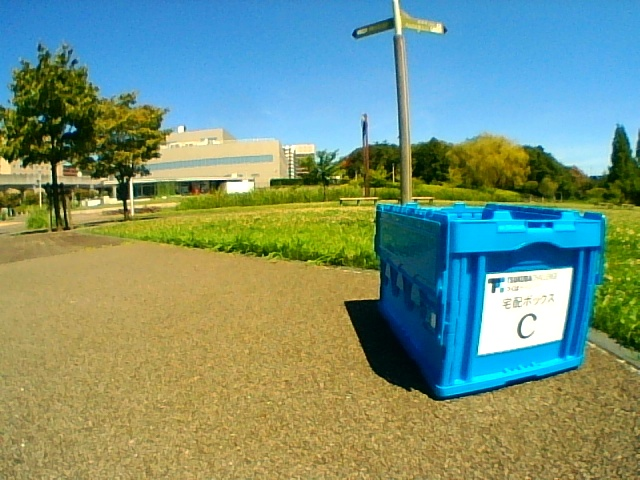blue_box: (430, 210, 582, 363)
tag_c: (494, 281, 554, 343)
